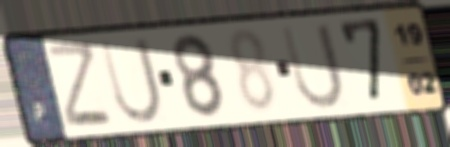7: (335, 17, 385, 109)
8: (171, 31, 227, 121), (226, 26, 278, 117)
U: (277, 20, 347, 113), (95, 35, 165, 127)
Z: (45, 39, 115, 129)
